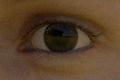eye: (45, 24, 76, 52)
